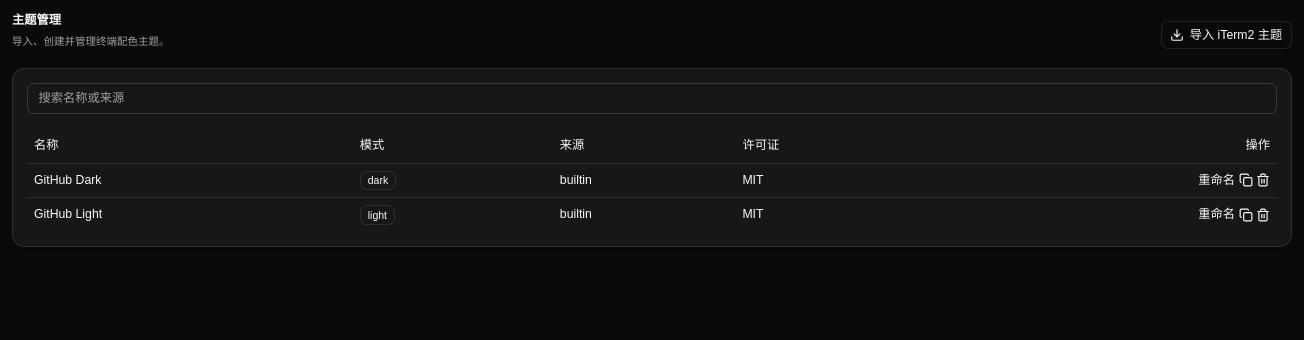
Test: ThemeManager › imports multiple iTerm2 schemes and shows structured results
What coordinates should you click on to do the following:
click the button "导入 iTerm2 主题"
I would click on:
 (1226, 35)
Its box is [1161,21,1292,49].
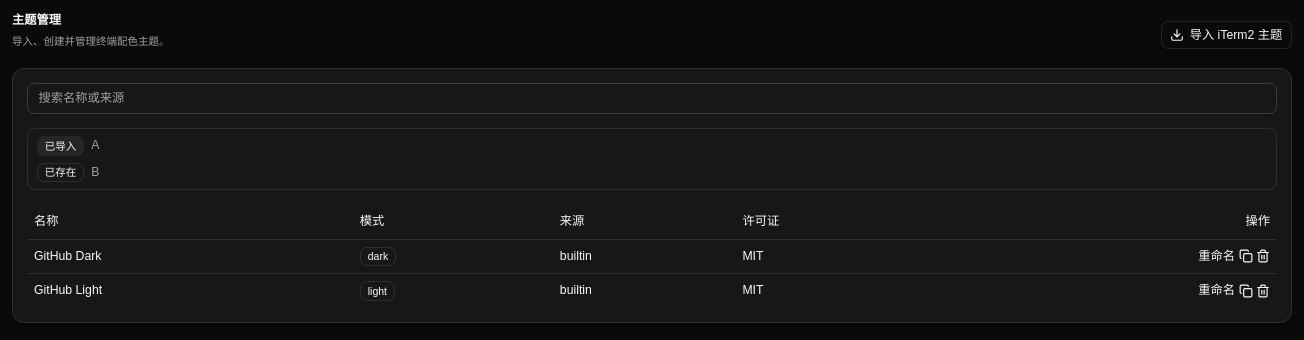
Now the text "已导入" is shown, box [37,136,84,156]
Now the text "已存在" is shown, box [37,163,84,182]
